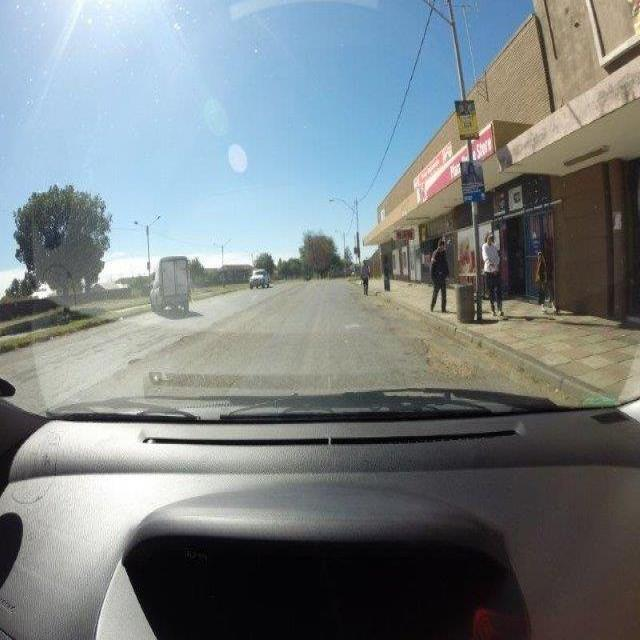jalan retak: (154, 334, 212, 356)
lubang: (418, 337, 478, 380), (388, 319, 417, 345), (127, 352, 146, 368)
